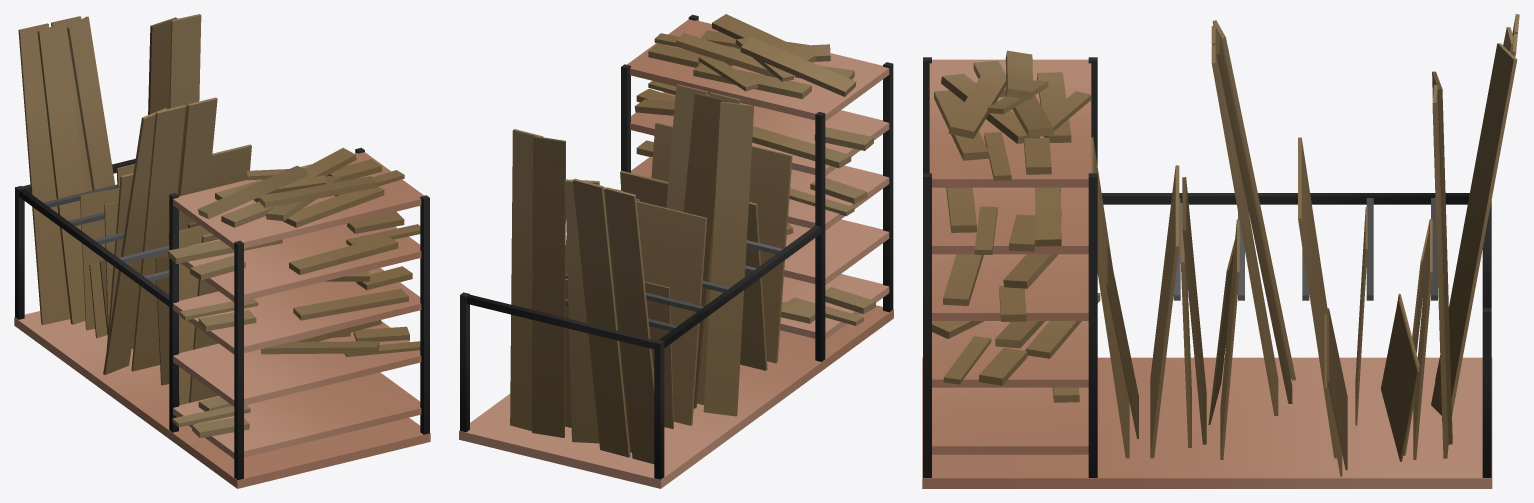
File: Wood Zone.fbx
3 views of the same model, side by side, from view 1: azimuth 30°, elevation 25°; view 2: azimuth 150°, elevation 25°; view 3: azimuth 270°, elevation 25° (orthographic). The views are drawn at different scales.
Visible parts, largest first — view 1: Cube.020; view 2: Cube.020; view 3: Cube.020.
Boxes of the visible parts, left/top/right/bottom form: Cube.020: left=14, top=14, right=430, bottom=488; Cube.020: left=459, top=14, right=893, bottom=488; Cube.020: left=922, top=14, right=1519, bottom=488.
Size of the model in its own units: 173 by 314 by 214.
